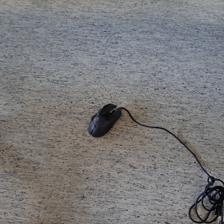mouse: (87, 102, 122, 138)
